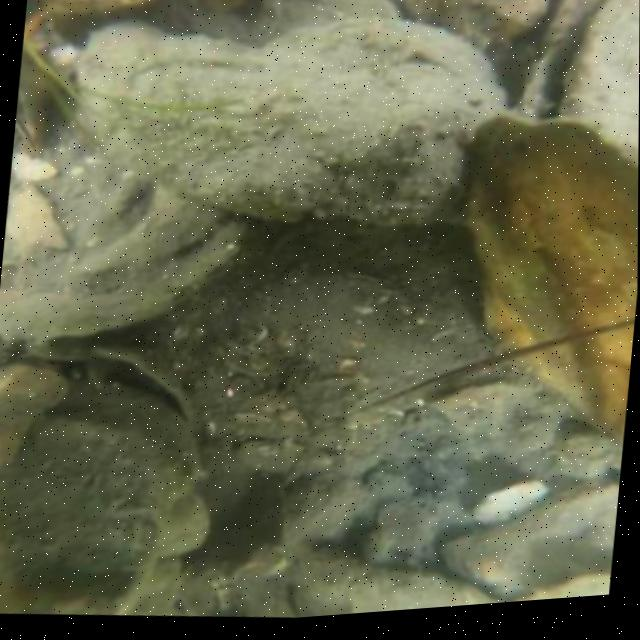Oyster-Indeterminate: (64, 16, 509, 225), (456, 113, 638, 449), (0, 415, 179, 576), (444, 477, 620, 602), (292, 546, 501, 617), (556, 0, 640, 165), (396, 0, 560, 48)
Oyster-Open: (64, 350, 198, 438)
